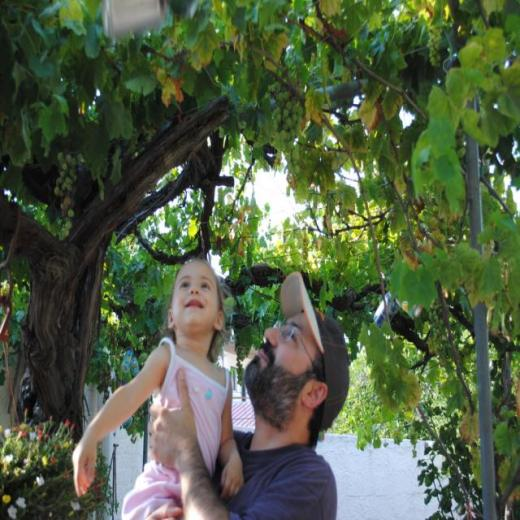Orange: (272, 92, 305, 157), (56, 149, 82, 217), (428, 299, 445, 362), (425, 23, 444, 67), (454, 125, 467, 159), (438, 217, 448, 239)
